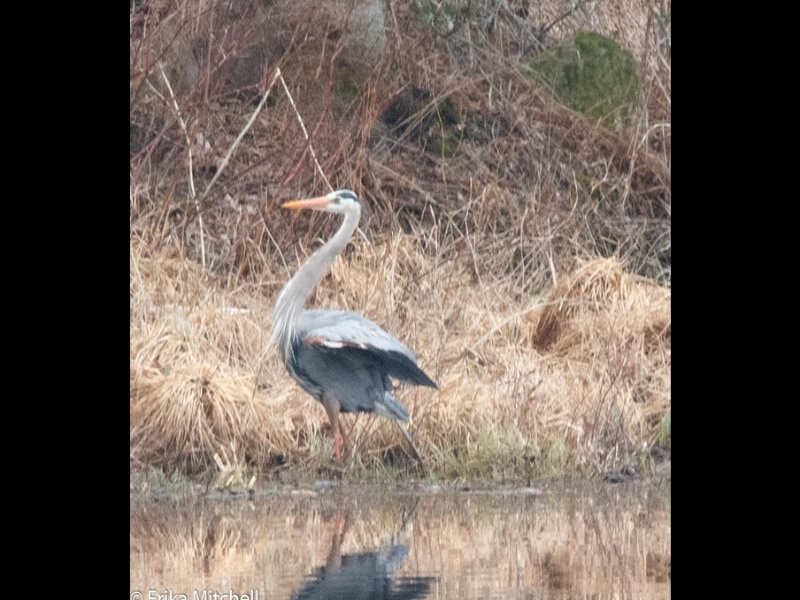heron: (267, 185, 438, 479)
